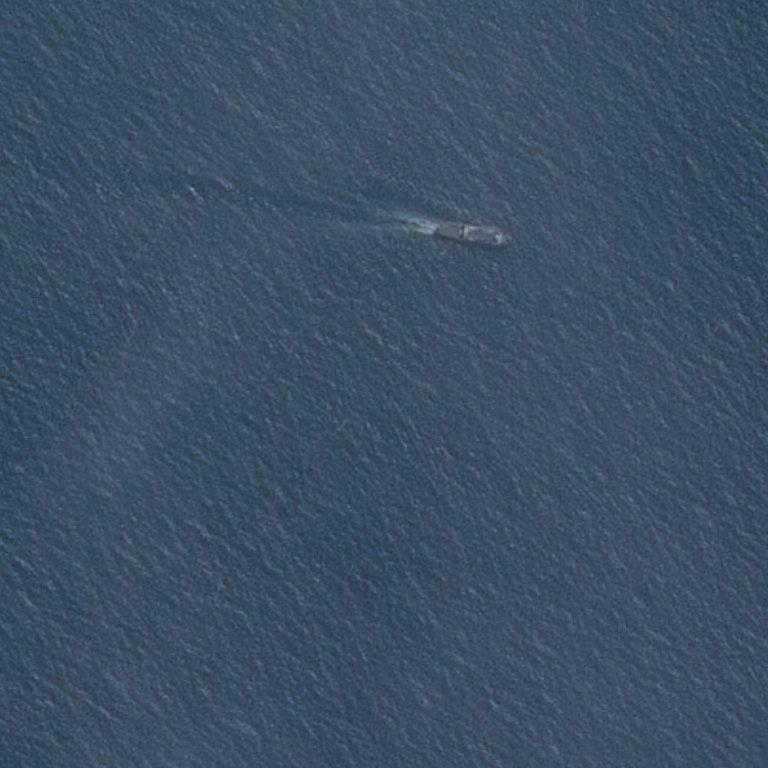ship: (458, 215, 476, 251), (509, 238, 515, 244), (436, 67, 441, 71), (434, 0, 439, 3)
